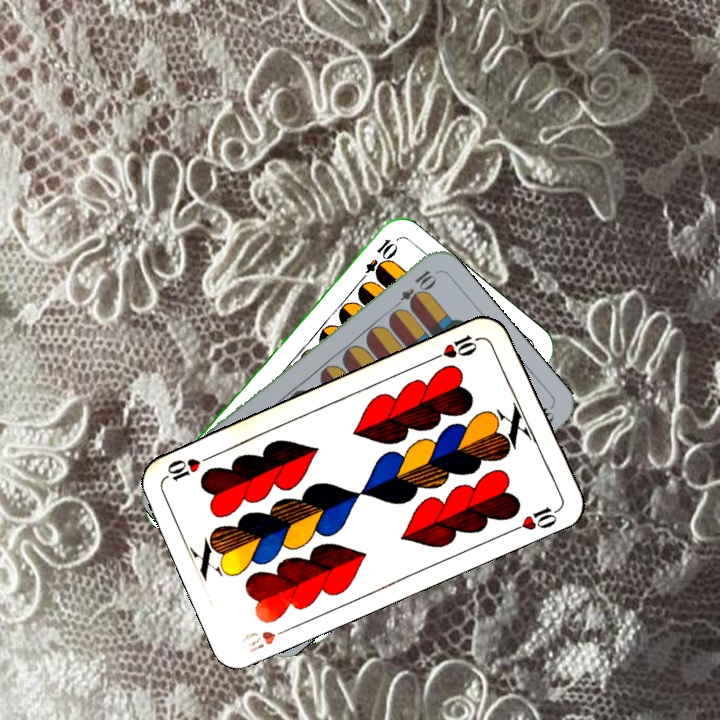E10: (388, 266, 438, 314), (354, 234, 397, 287)
H10: (237, 622, 295, 655), (429, 330, 485, 363)
